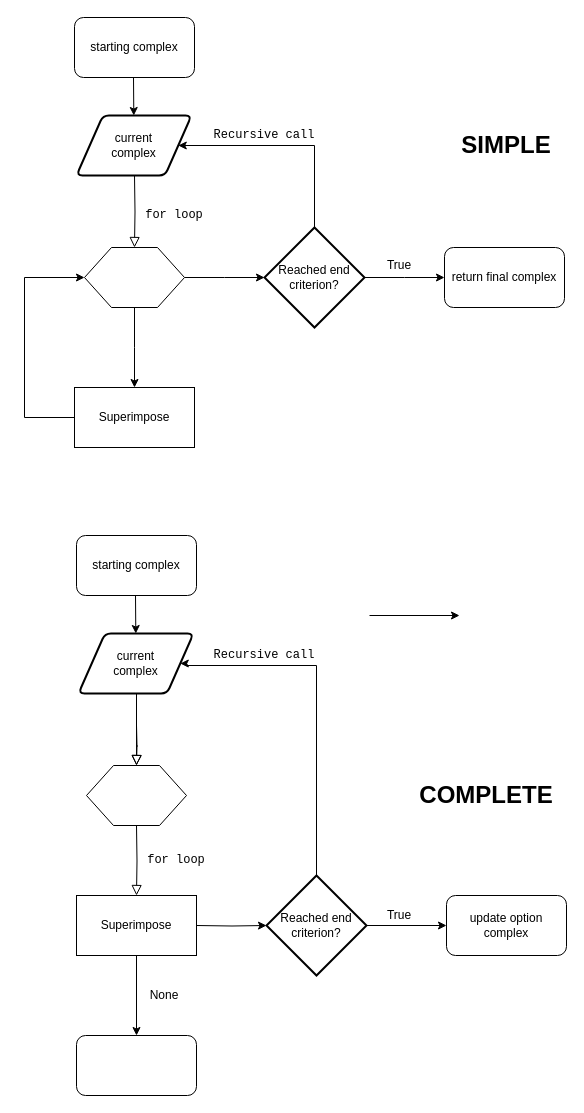
This 584x1113 diagram has some shape labels left out. The centre of each missing label's shape, as x and y in pixels:
chain in current complex: the point at 134,277
chain in superimposition options: the point at 136,795
return current complex: the point at 136,1065
